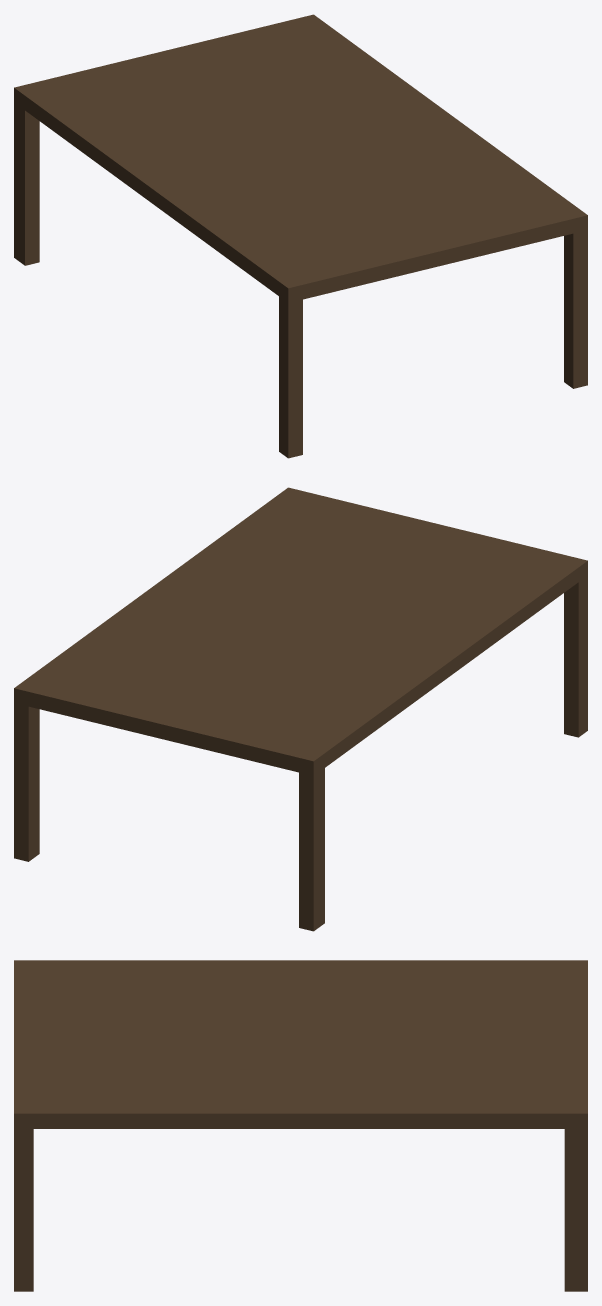
The model's file is Table.fbx.
3 renders of one model, top to bottom at view 1: azimuth 30°, elevation 25°; view 2: azimuth 150°, elevation 25°; view 3: azimuth 270°, elevation 25°, orthographic. The views are drawn at different scales.
Visible parts, largest first — view 1: Cube; view 2: Cube; view 3: Cube.
Part boxes in pixels (box(x1,y1,x2,y2)): Cube: box(14, 14, 587, 458); Cube: box(14, 487, 587, 931); Cube: box(14, 960, 587, 1291).
Bounding box in the file's own units: 177 × 95.93 × 280.
